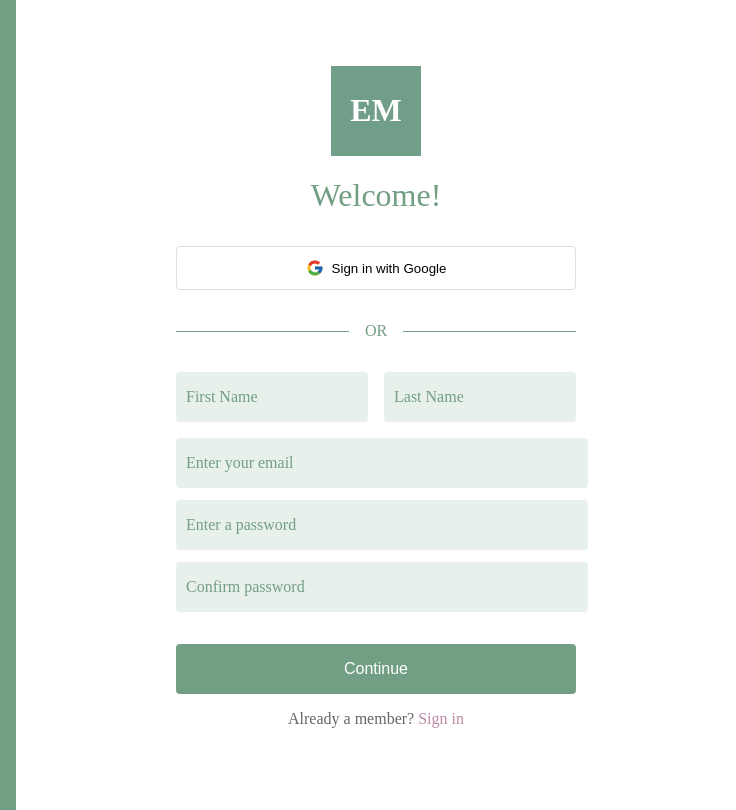
Register Component › should display success message on successful registration
Type "Test" into the field with placeholder "First Name" at (272,397), box top-left (176, 372), bottom-right (368, 422)
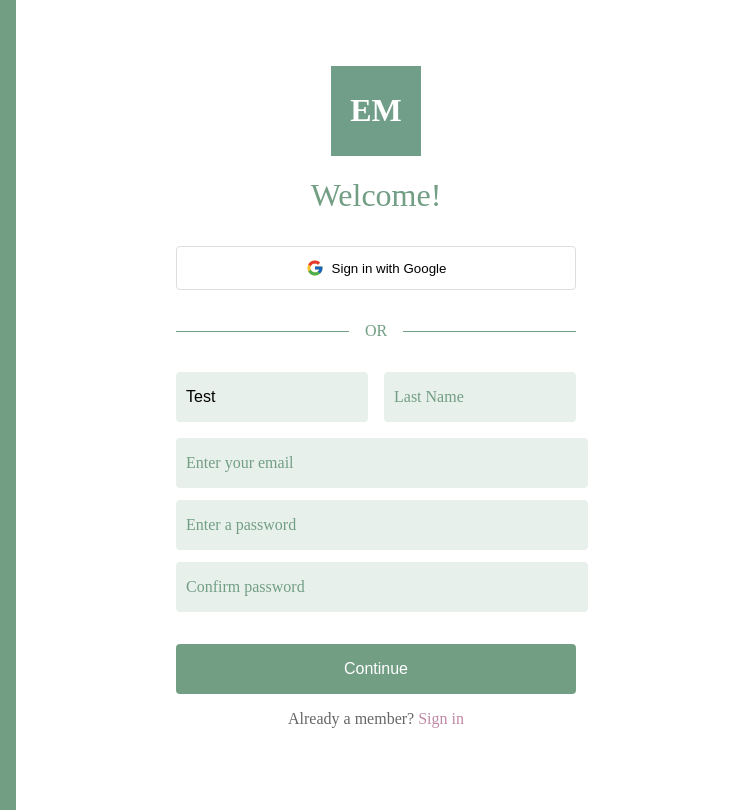
Type "User" into the field with placeholder "Last Name" at (480,397), box top-left (384, 372), bottom-right (576, 422)
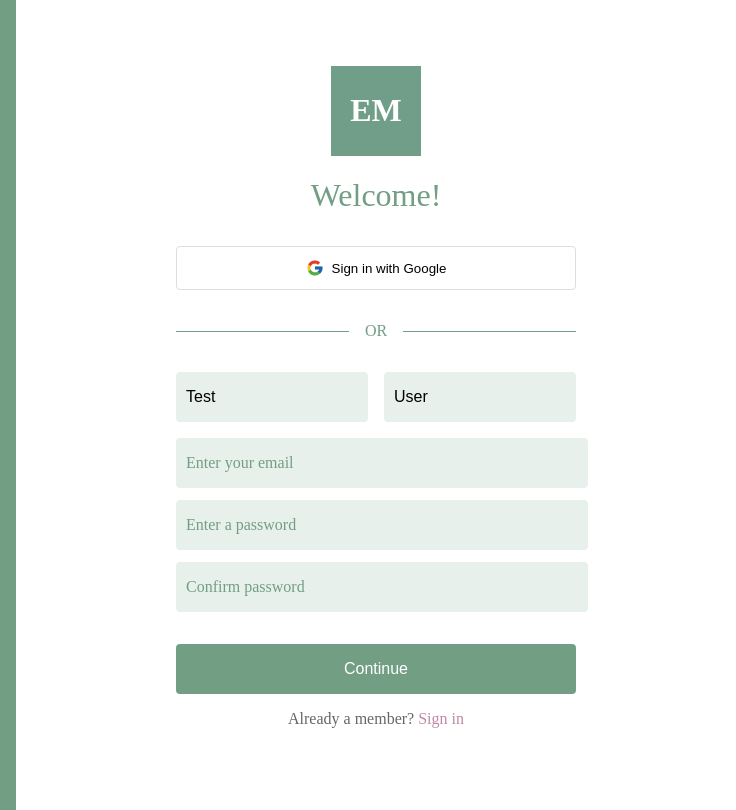
Type "test@example.com" into the field with placeholder "Enter your email" at (382,463), box top-left (176, 438), bottom-right (588, 488)
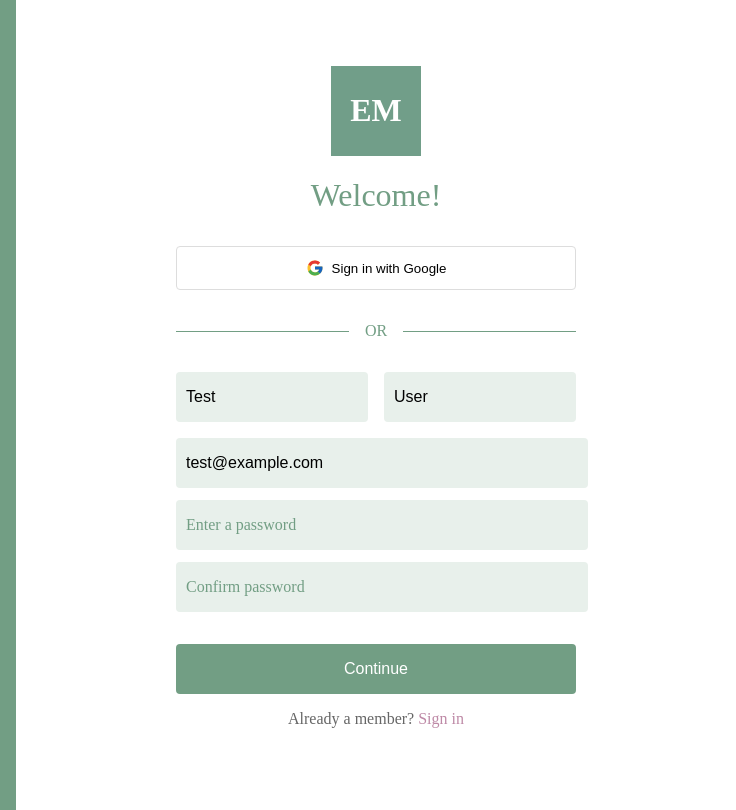
Type "password123" into the password field with placeholder "Enter a password" at (382,525), box top-left (176, 500), bottom-right (588, 550)
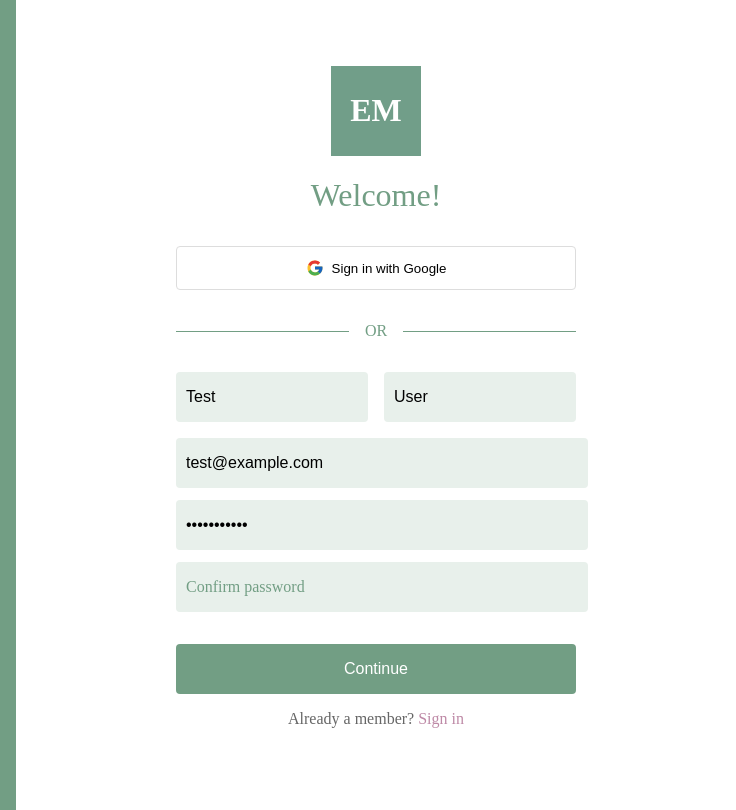
Type "password123" into the password field with placeholder "Confirm password" at (382,587), box top-left (176, 562), bottom-right (588, 612)
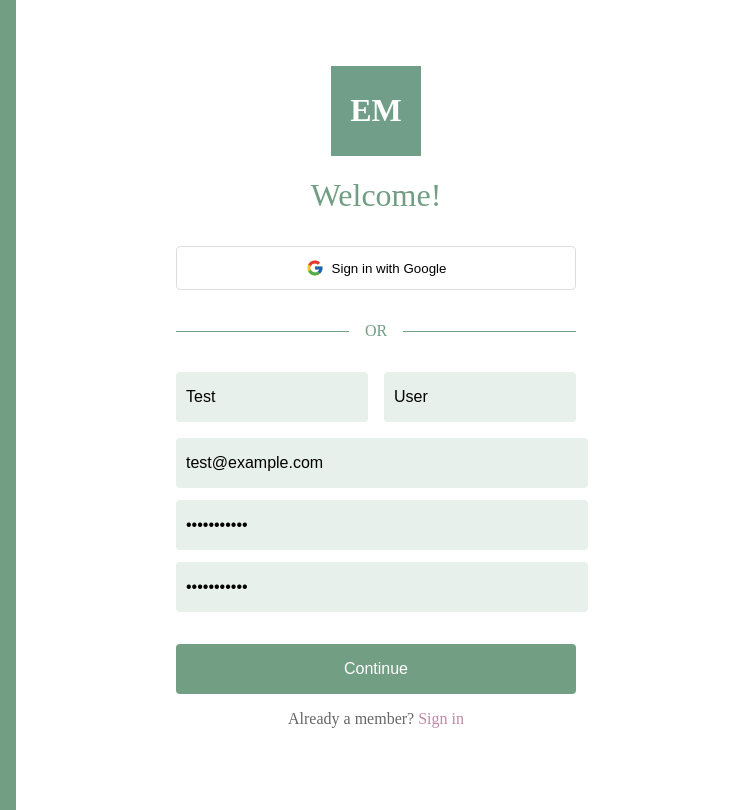
Click the button "Continue" at (376,669), box top-left (176, 644), bottom-right (576, 694)
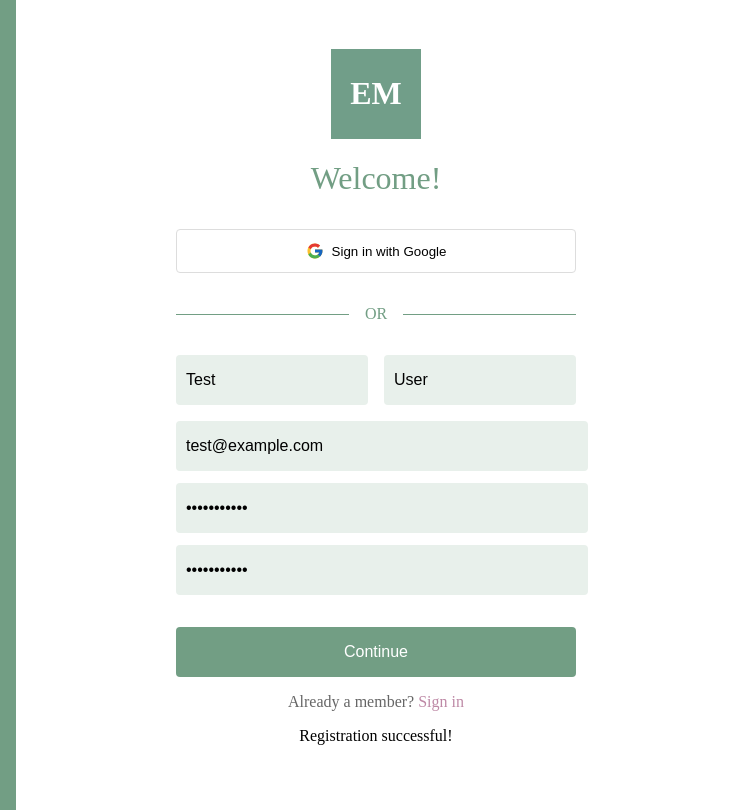
Result: the text "Registration successful!" is shown at top-left (299, 727), bottom-right (453, 744)
